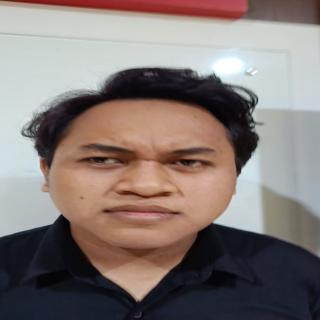Marah: (43, 94, 250, 255)
